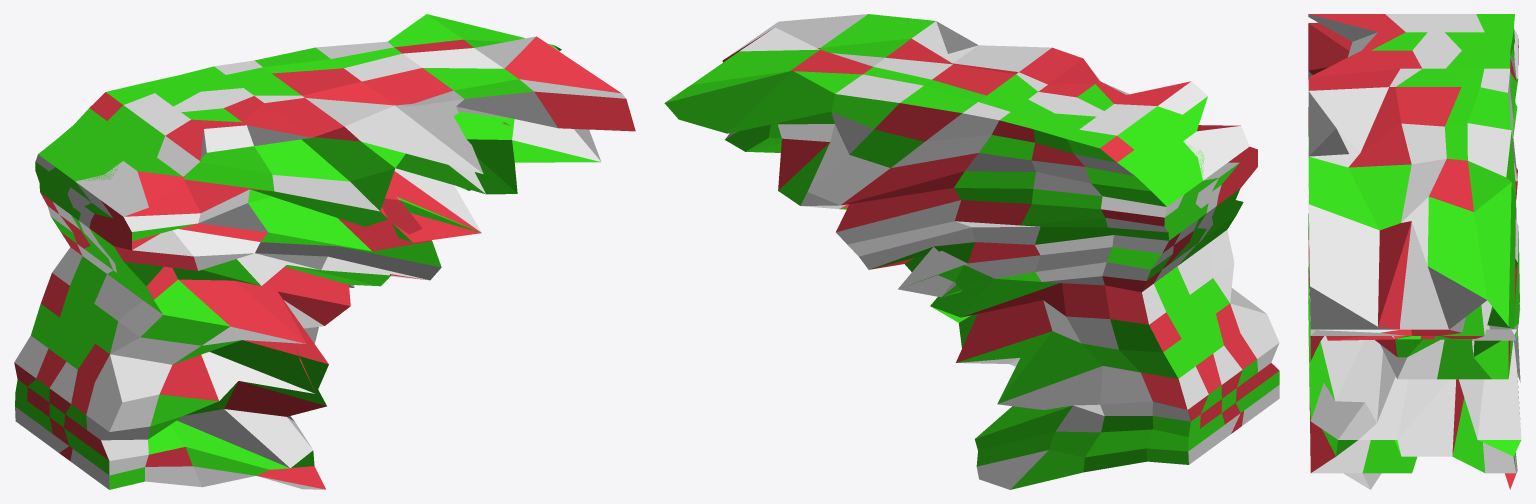
The picture shows the model from 3 angles, left to right: view 1: azimuth 30°, elevation 25°; view 2: azimuth 150°, elevation 25°; view 3: azimuth 270°, elevation 25°; orthographic projection. The views are drawn at different scales.
Parts seen in each view (by area): view 1: 平面; view 2: 平面; view 3: 平面.
Part boxes in pixels (x1,y1,x2,y2): 平面: (14, 14, 635, 489); 平面: (664, 14, 1279, 489); 平面: (1308, 14, 1521, 489).
Size of the model in its own units: 1968 by 1302 by 612.
